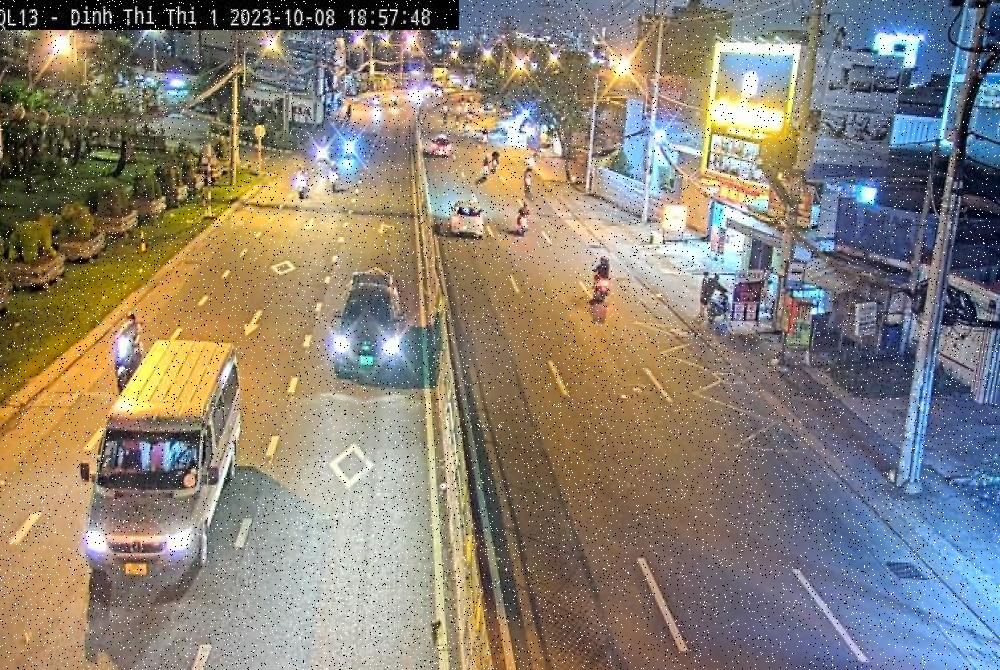car: (87, 334, 242, 595)
